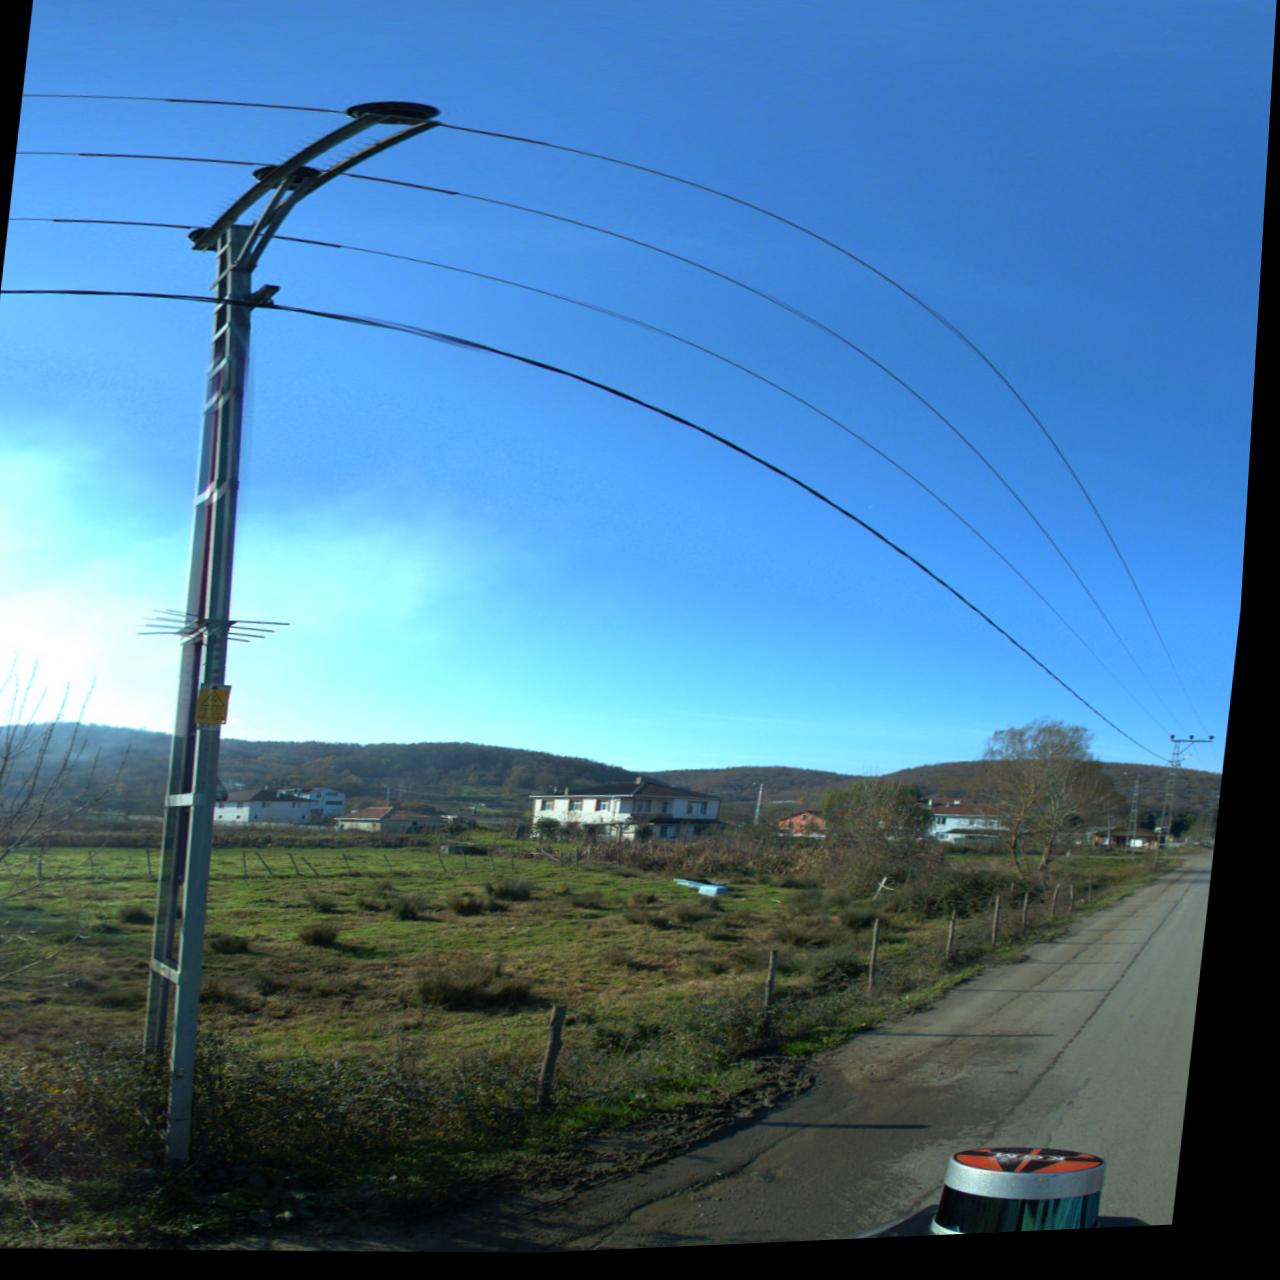Utility Pole Information Plate: (204, 689, 239, 727)
